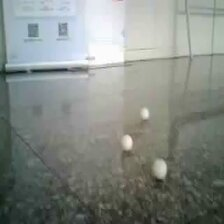tennis: (168, 93, 187, 116), (105, 65, 120, 85), (44, 57, 56, 73), (122, 52, 131, 65)
